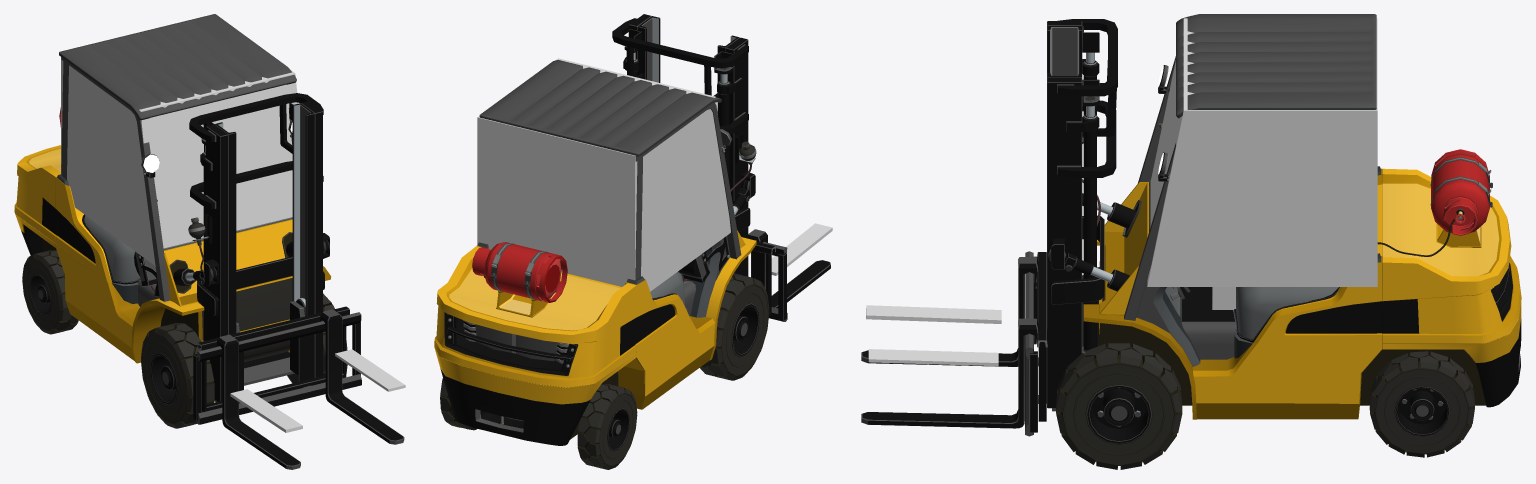
The model's file is lifter.glb.
3 views of the same model, side by side, from view 1: azimuth 30°, elevation 25°; view 2: azimuth 150°, elevation 25°; view 3: azimuth 270°, elevation 25° (orthographic). The views are drawn at different scales.
Parts seen in each view (by area): view 1: body, Cube.002, lift, wheel_fr, wheel, Cube, Cube.001; view 2: body, Cube.002, wheel_fr, gaz, wheel, lift, Cube, Cylinder.001; view 3: body, Cube.002, wheel_fl, Cylinder.001, lift, gaz, Cube, Cube.001.
Boxes of the visible parts, <box> form: body: <box>14,14,331,401</box>; Cube.002: <box>61,57,298,265</box>; lift: <box>193,298,404,469</box>; wheel_fr: <box>141,323,214,428</box>; wheel: <box>22,250,78,334</box>; Cube: <box>230,389,302,432</box>; Cube.001: <box>335,349,405,391</box>; body: <box>434,14,756,445</box>; Cube.002: <box>477,58,730,291</box>; wheel_fr: <box>700,273,769,380</box>; gaz: <box>472,242,567,302</box>; wheel: <box>577,384,637,469</box>; lift: <box>748,229,830,321</box>; Cube: <box>771,223,832,275</box>; Cylinder.001: <box>440,378,477,430</box>; body: <box>1047,14,1521,419</box>; Cube.002: <box>1147,18,1377,286</box>; wheel_fl: <box>1056,343,1182,469</box>; Cylinder.001: <box>1369,351,1475,457</box>; lift: <box>861,251,1047,436</box>; gaz: <box>1430,149,1492,235</box>; Cube: <box>866,305,1001,323</box>; Cube.001: <box>868,349,998,366</box>.
Size of the model in its own units: 1.07 by 1.88 by 3.03.
